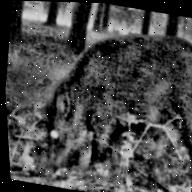boar: (17, 10, 192, 188)
